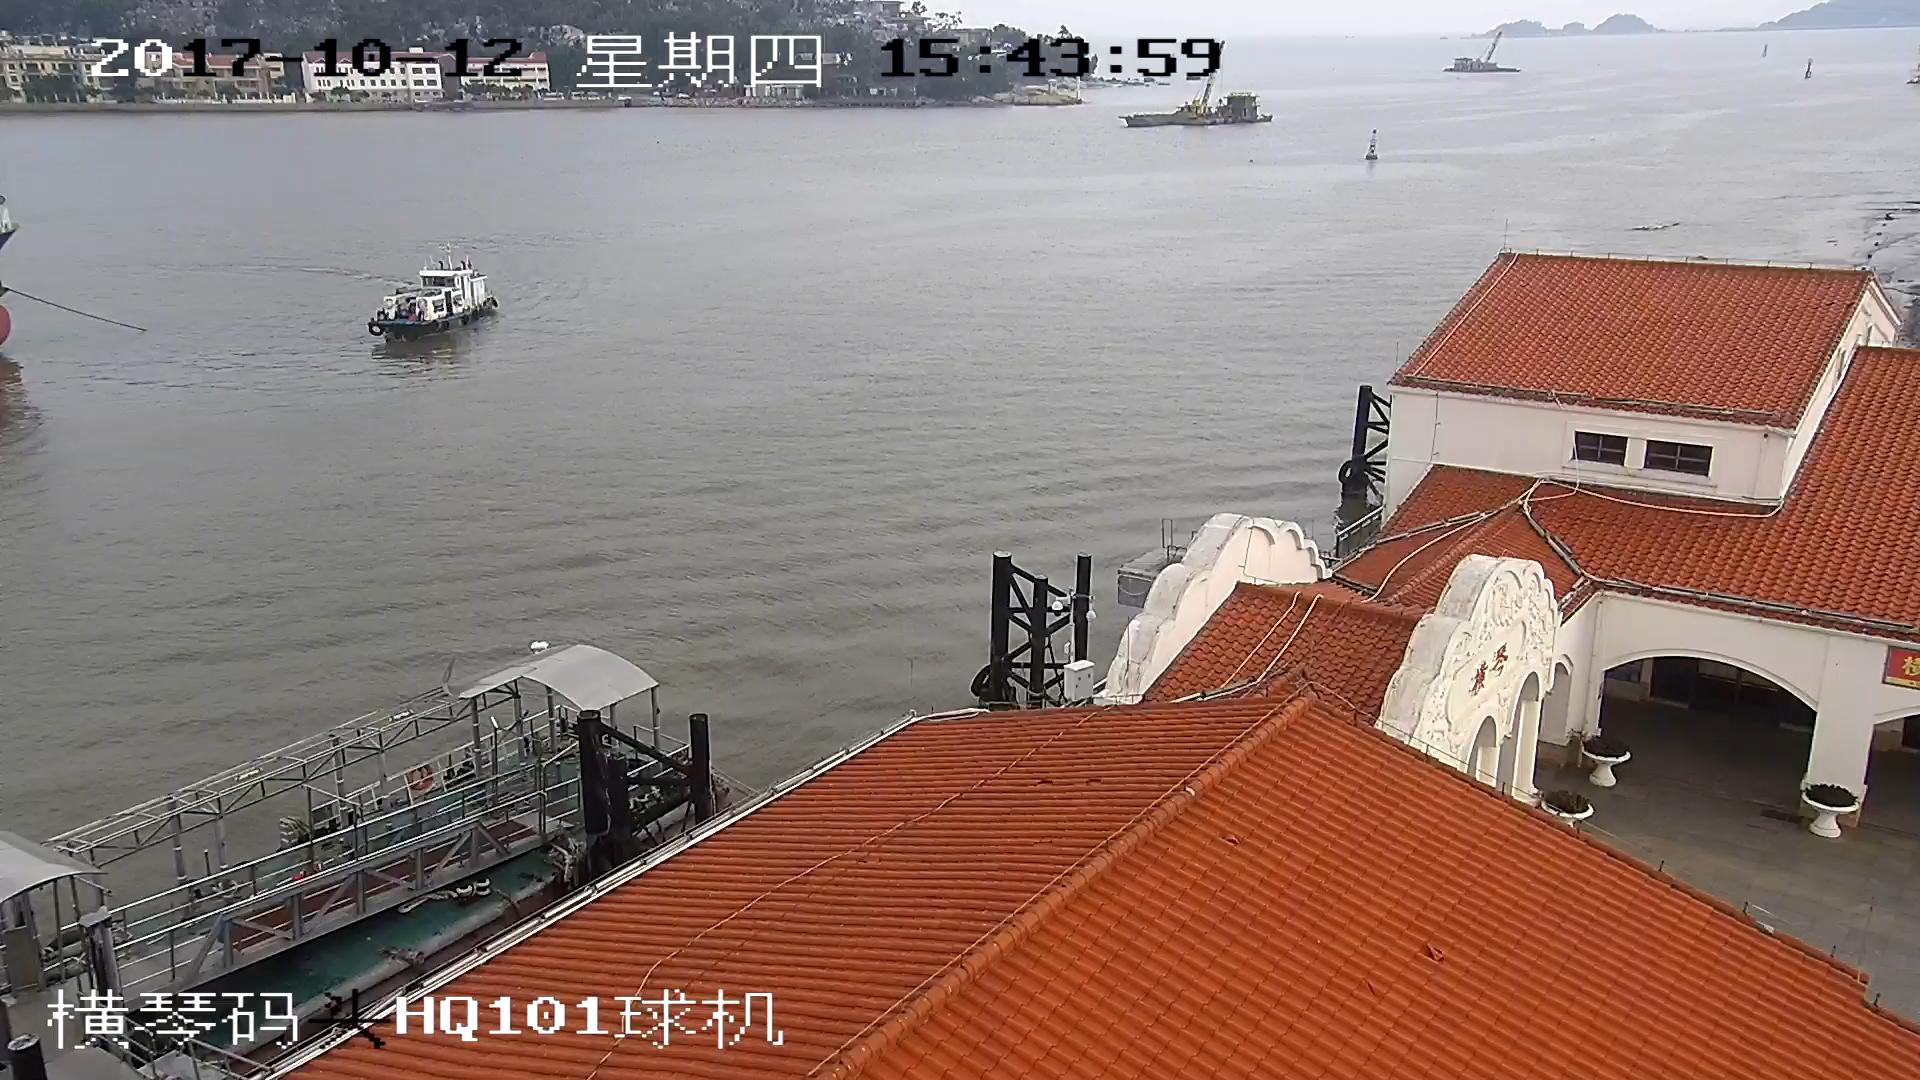fishing boat: (368, 258, 497, 335)
